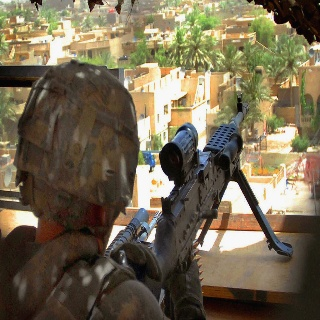rifle: (115, 94, 297, 286)
